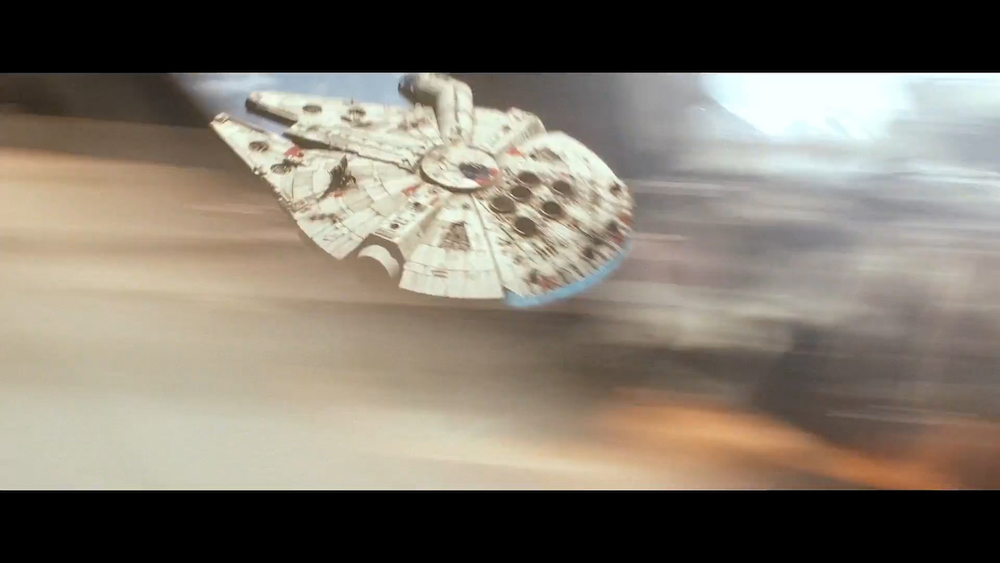Millennium Falcon: (211, 76, 635, 312)
